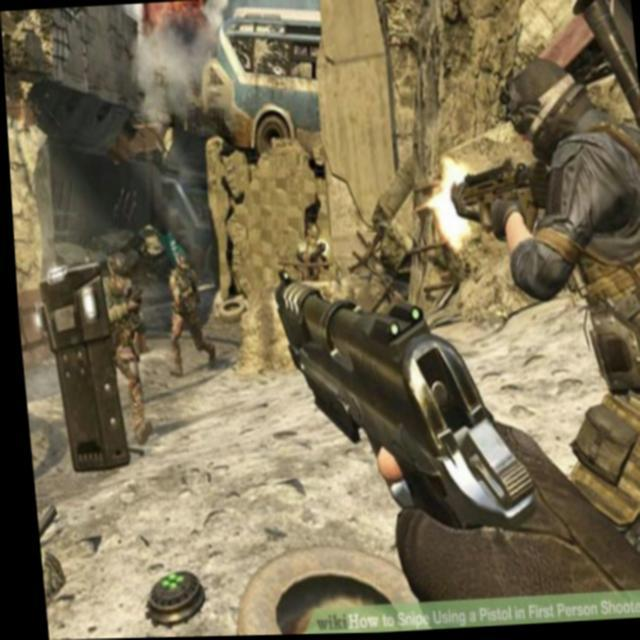weapon: (267, 256, 535, 564), (444, 164, 556, 243), (30, 499, 54, 548), (120, 287, 144, 333)
